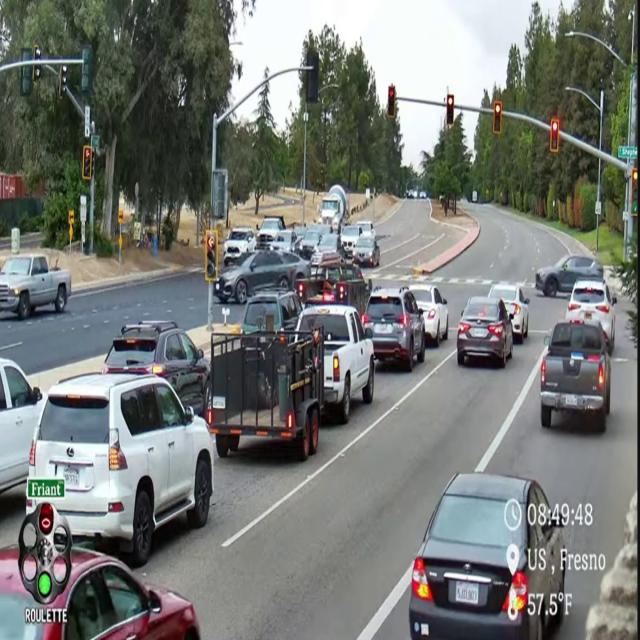car: (29, 374, 213, 566), (409, 473, 566, 639), (0, 546, 201, 639), (102, 321, 210, 415), (0, 358, 44, 493), (362, 287, 425, 370), (214, 250, 309, 303), (457, 296, 513, 367), (566, 280, 616, 354), (535, 256, 603, 296), (241, 290, 302, 333), (409, 284, 448, 346), (489, 284, 529, 343), (223, 227, 256, 265), (299, 225, 330, 259), (311, 233, 344, 264), (257, 215, 285, 247), (352, 236, 380, 266), (341, 224, 361, 256), (271, 230, 297, 252), (357, 221, 375, 237), (407, 190, 415, 199), (419, 191, 426, 199)
traffic signal: (205, 230, 218, 282), (306, 51, 319, 103), (81, 46, 92, 96), (82, 145, 93, 181), (21, 66, 32, 96), (387, 85, 396, 119), (493, 101, 502, 135), (550, 119, 559, 152), (631, 168, 637, 217), (59, 65, 67, 99), (446, 95, 454, 127), (32, 65, 41, 82)
truck: (206, 331, 324, 461), (297, 304, 374, 423), (541, 320, 610, 431), (0, 255, 71, 319), (295, 258, 371, 314), (320, 184, 348, 232), (256, 216, 285, 248)
